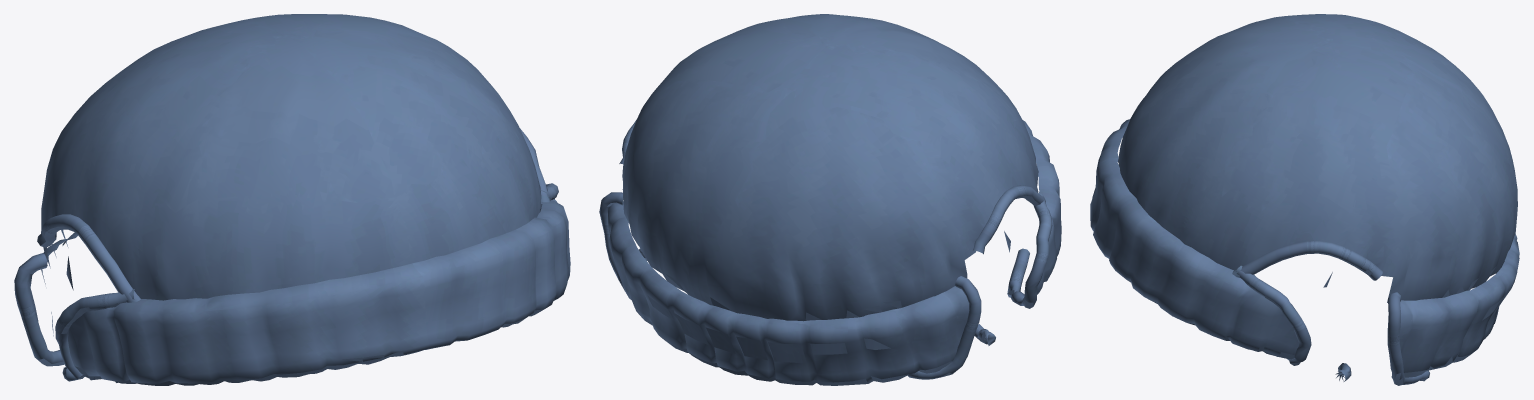
Rendered from mak_beanie_v3.glb.
The picture shows the model from 3 angles, left to right: view 1: azimuth 30°, elevation 25°; view 2: azimuth 150°, elevation 25°; view 3: azimuth 270°, elevation 25°; orthographic projection. The views are drawn at different scales.
Visible parts, largest first — view 1: mak_beanie_v3; view 2: mak_beanie_v3; view 3: mak_beanie_v3.
Boxes of the visible parts, left/top/right/bottom form: mak_beanie_v3: left=14, top=14, right=570, bottom=385; mak_beanie_v3: left=599, top=14, right=1061, bottom=385; mak_beanie_v3: left=1090, top=14, right=1519, bottom=385.
Size of the model in its own units: 0.5515 by 0.3561 by 0.4967.
1 material, 1 textured.
